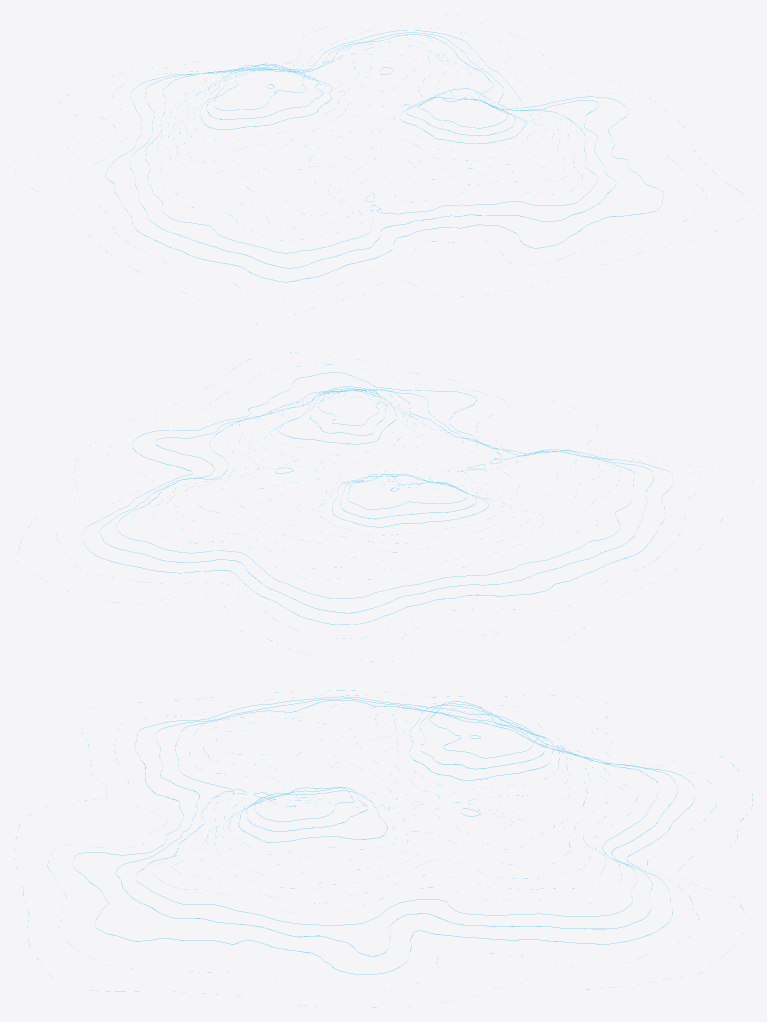
3 renders of one model, top to bottom at view 1: azimuth 30°, elevation 25°; view 2: azimuth 150°, elevation 25°; view 3: azimuth 270°, elevation 25°, orthographic. The views are drawn at different scales.
Parts seen in each view (by area): view 1: 等高线; view 2: 等高线; view 3: 等高线.
Boxes of the visible parts, x1,y1,x2,y2 form: 等高线: (14,14,752,323); 等高线: (15,352,752,661); 等高线: (14,690,752,1007).
Bounding box in the file's own units: 10.2 × 1.18 × 10.03.
